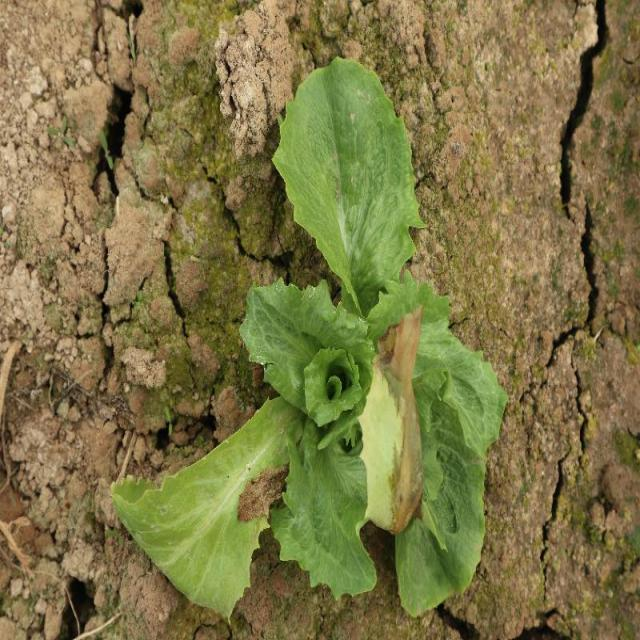crop: (110, 55, 511, 625)
